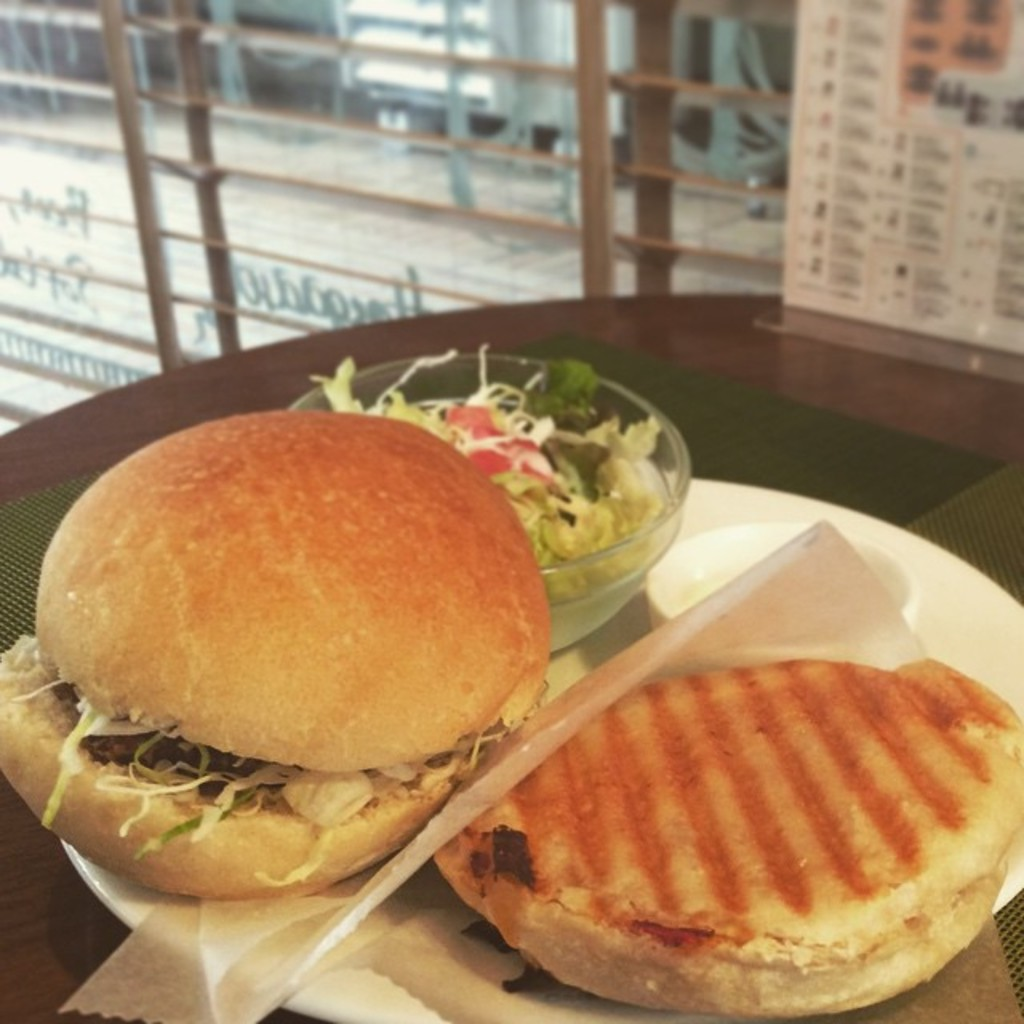Hamburger: (0, 406, 545, 897)
